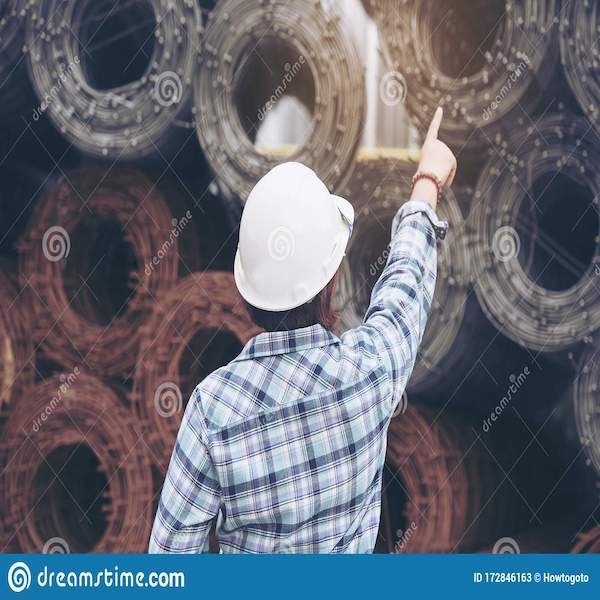helmet: (236, 161, 359, 313)
